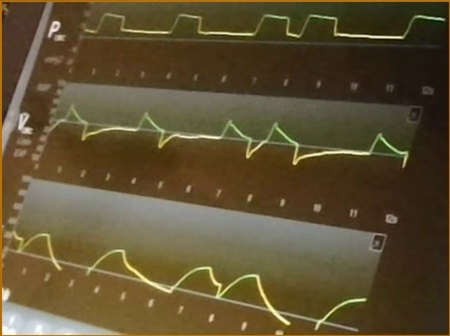Double_Triggering Flow: (53, 99, 408, 169)
Double_Triggering Volume: (10, 227, 368, 329)
